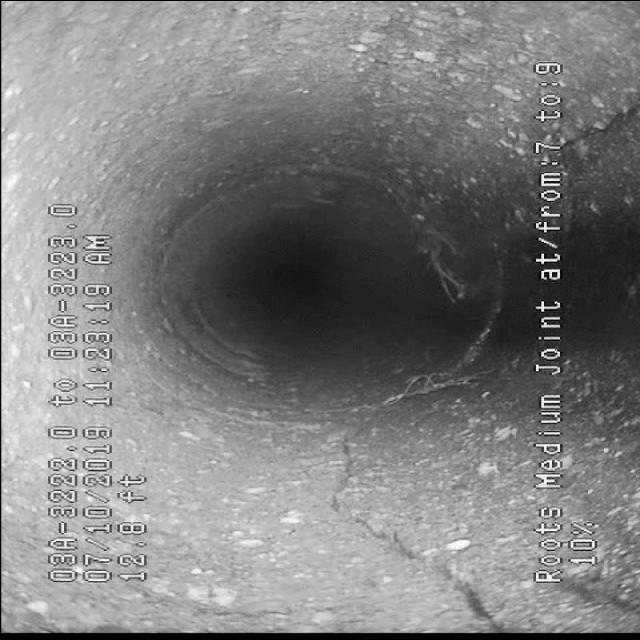Crack: (310, 448, 500, 596)
